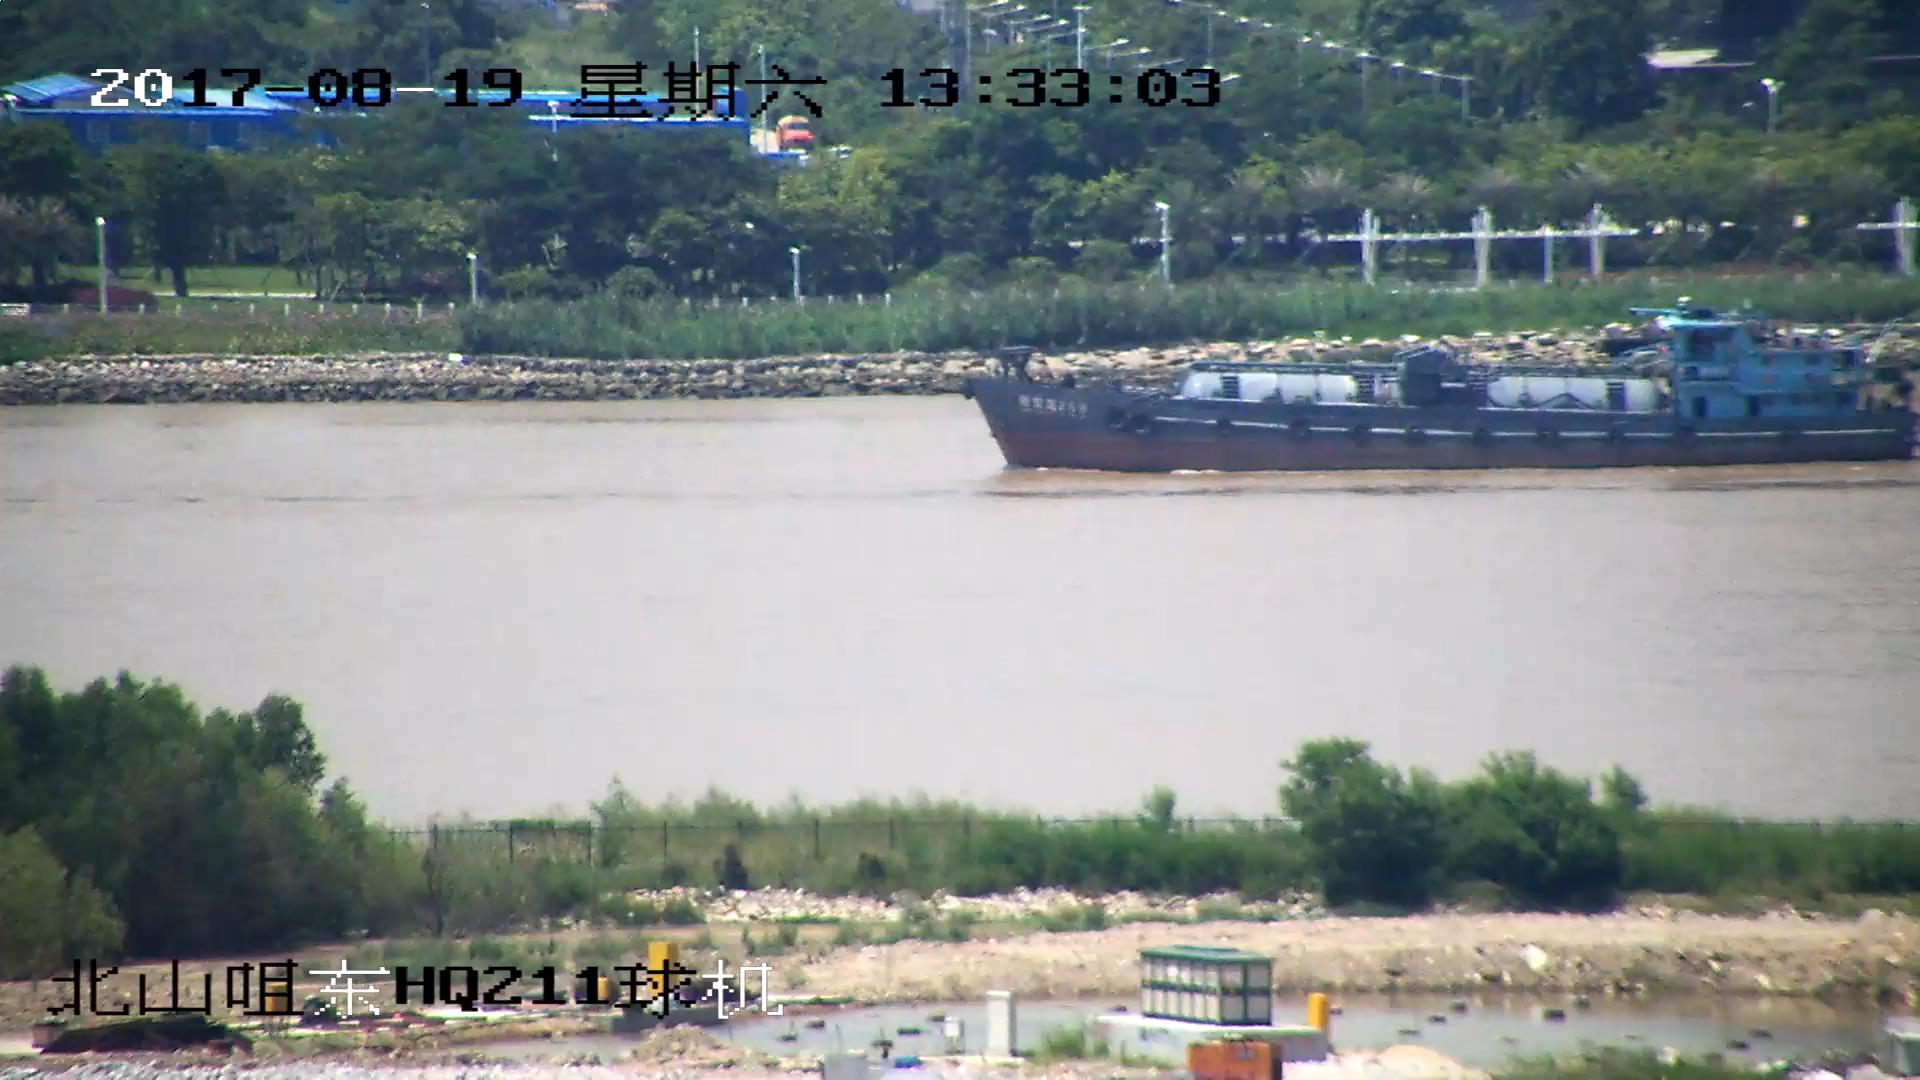bulk cargo carrier: (961, 310, 1920, 469)
